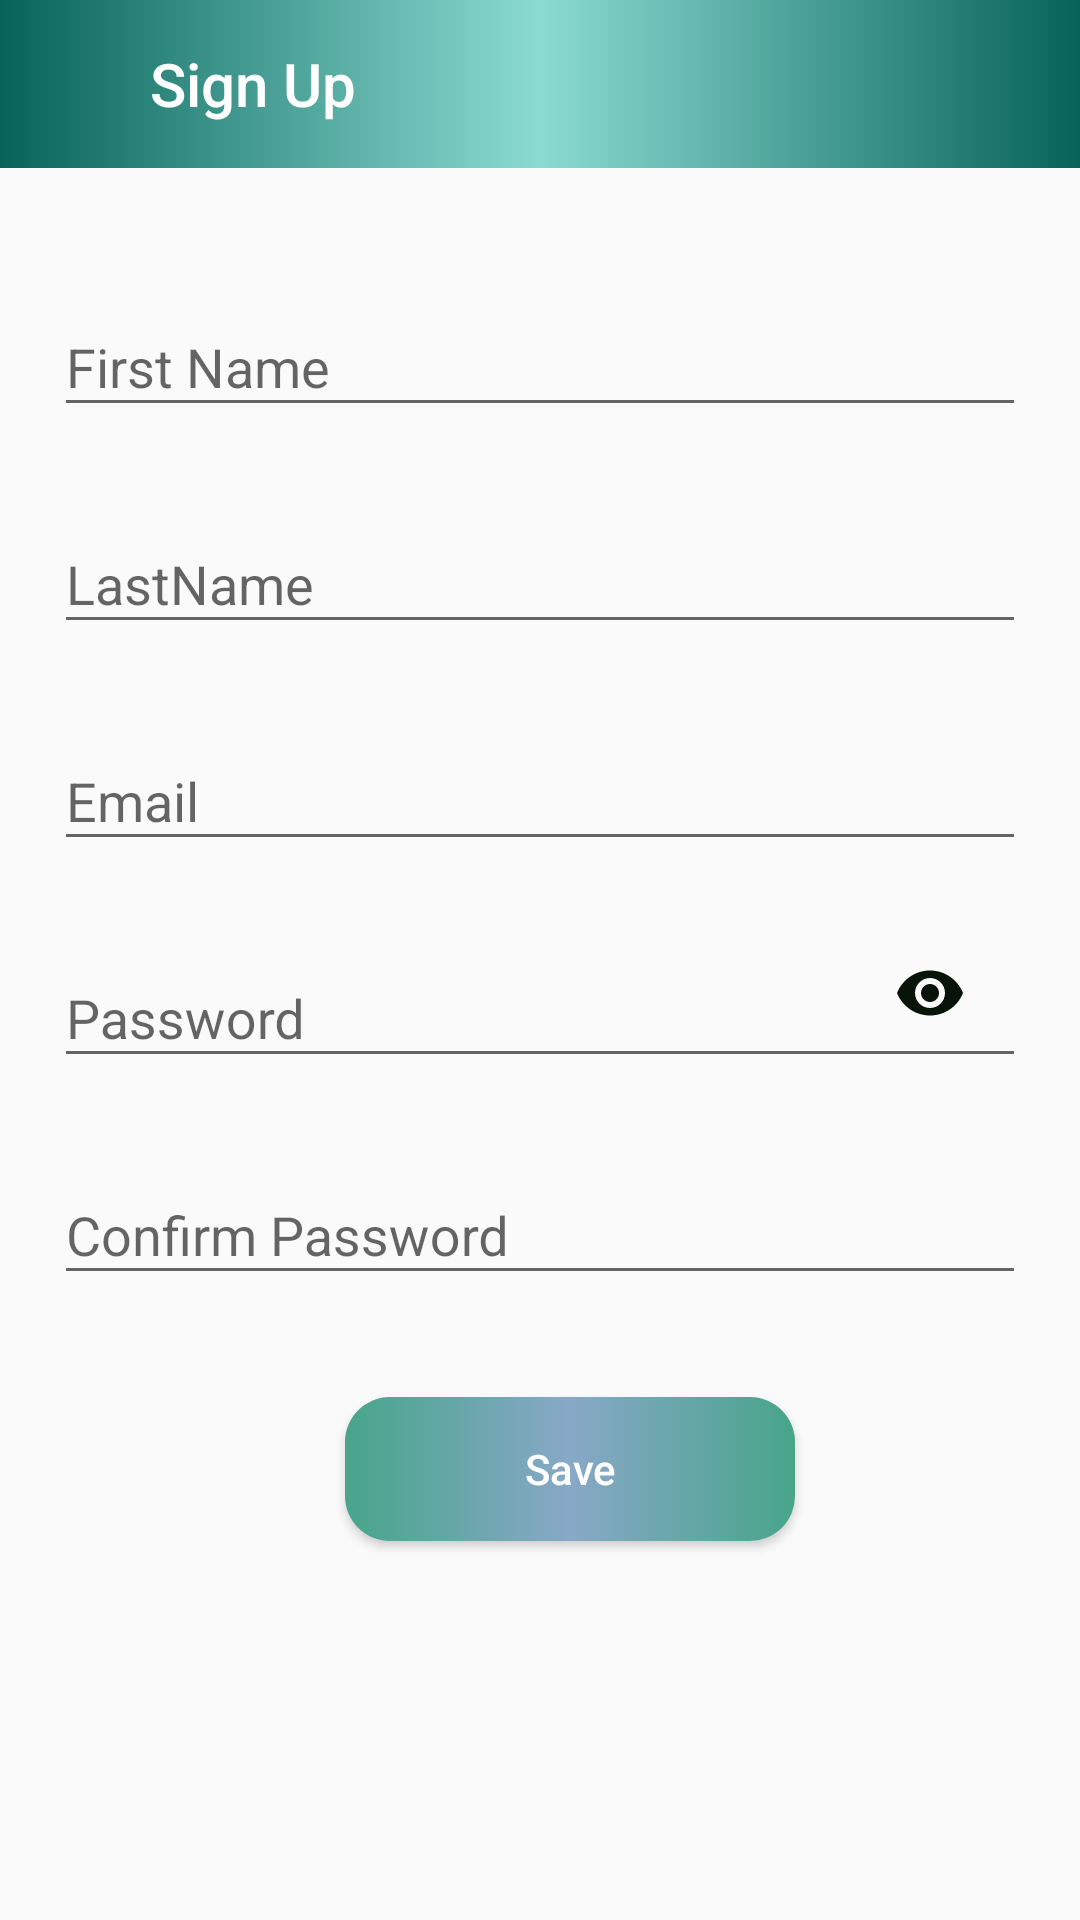

Named icons in this screenshot (1080 × 1920) and their centers, (x,y):
eye: (930,993)
